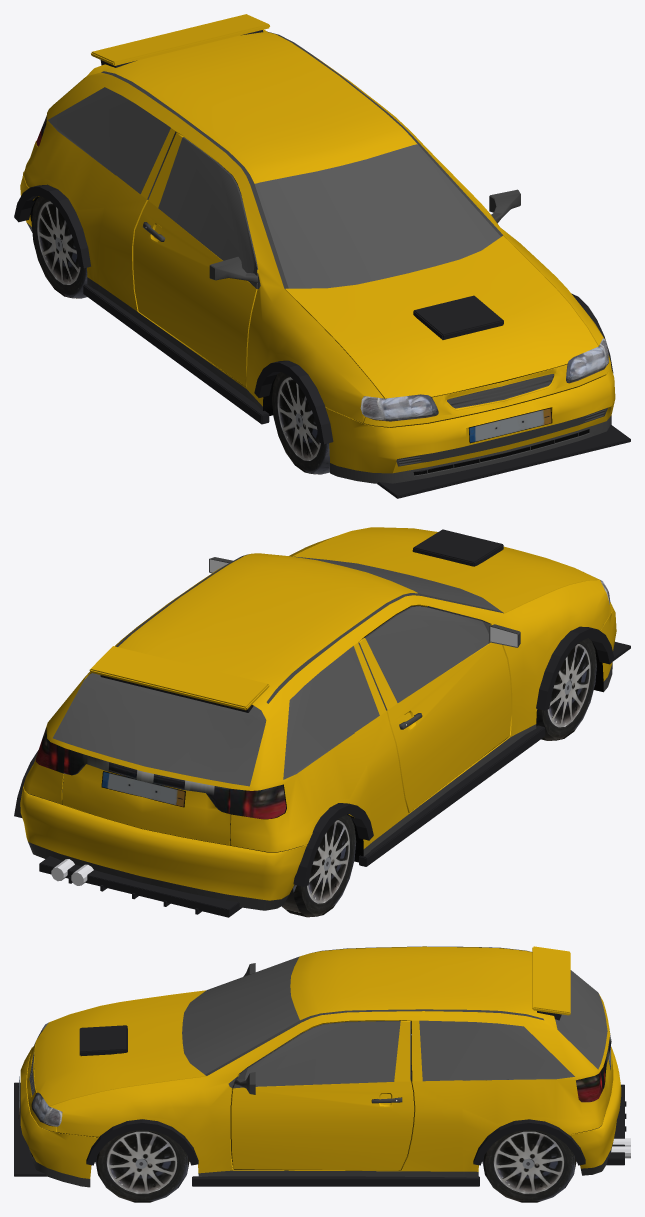
File: tunero.glb
The picture shows the model from 3 angles, top to bottom: view 1: azimuth 30°, elevation 25°; view 2: azimuth 150°, elevation 25°; view 3: azimuth 270°, elevation 25°; orthographic projection. The views are drawn at different scales.
Parts seen in each view (by area): view 1: body, wheel_fr, wheel_br; view 2: body, wheel_br, wheel_fr; view 3: body, wheel_bl, wheel_fl.
Boxes of the visible parts, x1=… form: body: x1=14, y1=14, x2=630, y2=498; wheel_fr: x1=272, y1=372, x2=343, y2=474; wheel_br: x1=31, y1=196, x2=87, y2=298; body: x1=14, y1=527, x2=630, y2=917; wheel_br: x1=276, y1=814, x2=356, y2=917; wheel_fr: x1=536, y1=638, x2=596, y2=740; body: x1=14, y1=946, x2=630, y2=1187; wheel_bl: x1=482, y1=1129, x2=576, y2=1202; wheel_fl: x1=95, y1=1129, x2=189, y2=1202.
Size of the model in its own units: 8.02 by 5.45 by 17.24.
Materials: 13 (5 with a texture image).
